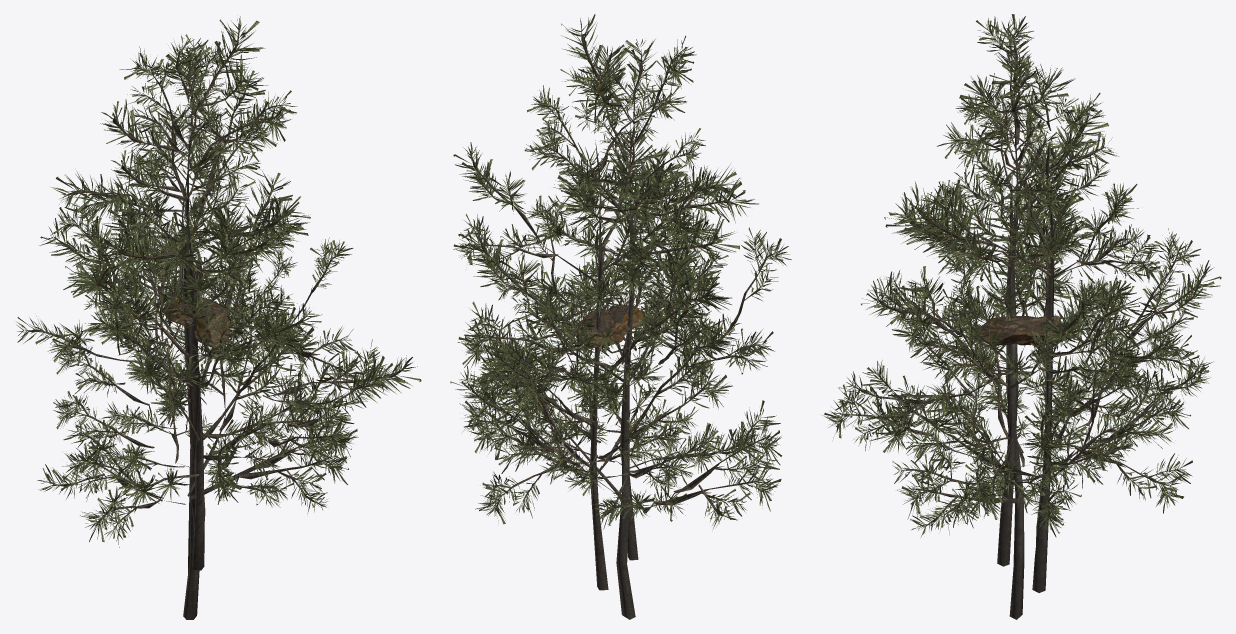
The model's file is forest-environment.glb.
The picture shows the model from 3 angles, left to right: view 1: azimuth 30°, elevation 25°; view 2: azimuth 150°, elevation 25°; view 3: azimuth 270°, elevation 25°; orthographic projection.
Visible parts, largest first — view 1: Pine_B, Pine_A, Pine_C, Weathered_Rock; view 2: Pine_B, Pine_A, Pine_C, Weathered_Rock; view 3: Pine_B, Pine_A, Pine_C, Weathered_Rock.
Part boxes in pixels (x1=…): Pine_B: x1=16, y1=16, x2=421, y2=619; Pine_A: x1=39, y1=34, x2=363, y2=572; Pine_C: x1=53, y1=86, x2=358, y2=570; Weathered_Rock: x1=162, y1=296, x2=230, y2=347; Pine_B: x1=457, y1=14, x2=791, y2=619; Pine_A: x1=450, y1=66, x2=732, y2=590; Pine_C: x1=480, y1=77, x2=762, y2=560; Weathered_Rock: x1=578, y1=304, x2=649, y2=347; Pine_B: x1=839, y1=14, x2=1201, y2=619; Pine_A: x1=823, y1=71, x2=1221, y2=592; Pine_C: x1=861, y1=85, x2=1178, y2=566; Weathered_Rock: x1=972, y1=315, x2=1070, y2=345.
Bounding box in the file's own units: 5.33 × 8.78 × 5.45.
Materials: 3 (3 with a texture image).
